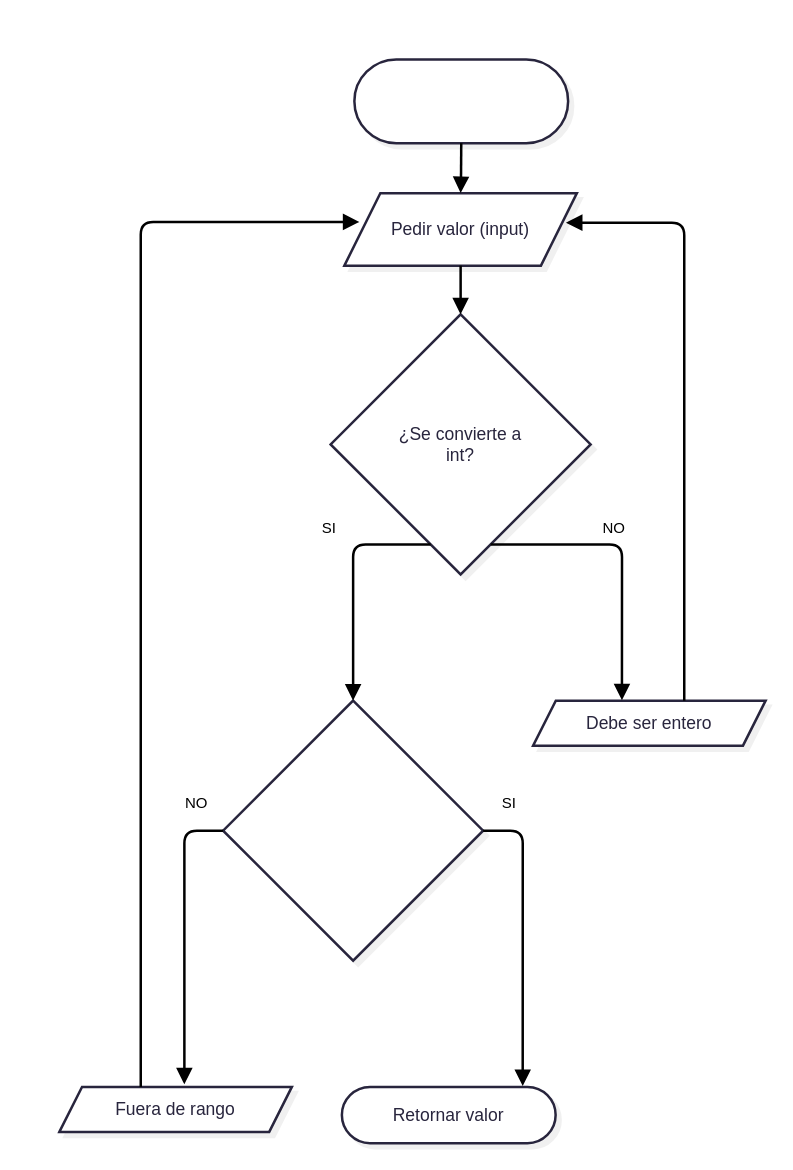
Some shapes in this 793 by 1170 pixel diagram are drawn without their labels. The centre of each missing label's shape, as x and y in pixels:
Inicio pedir_numero: pixel 463 103
¿Dentro del rango?: pixel 355 832
